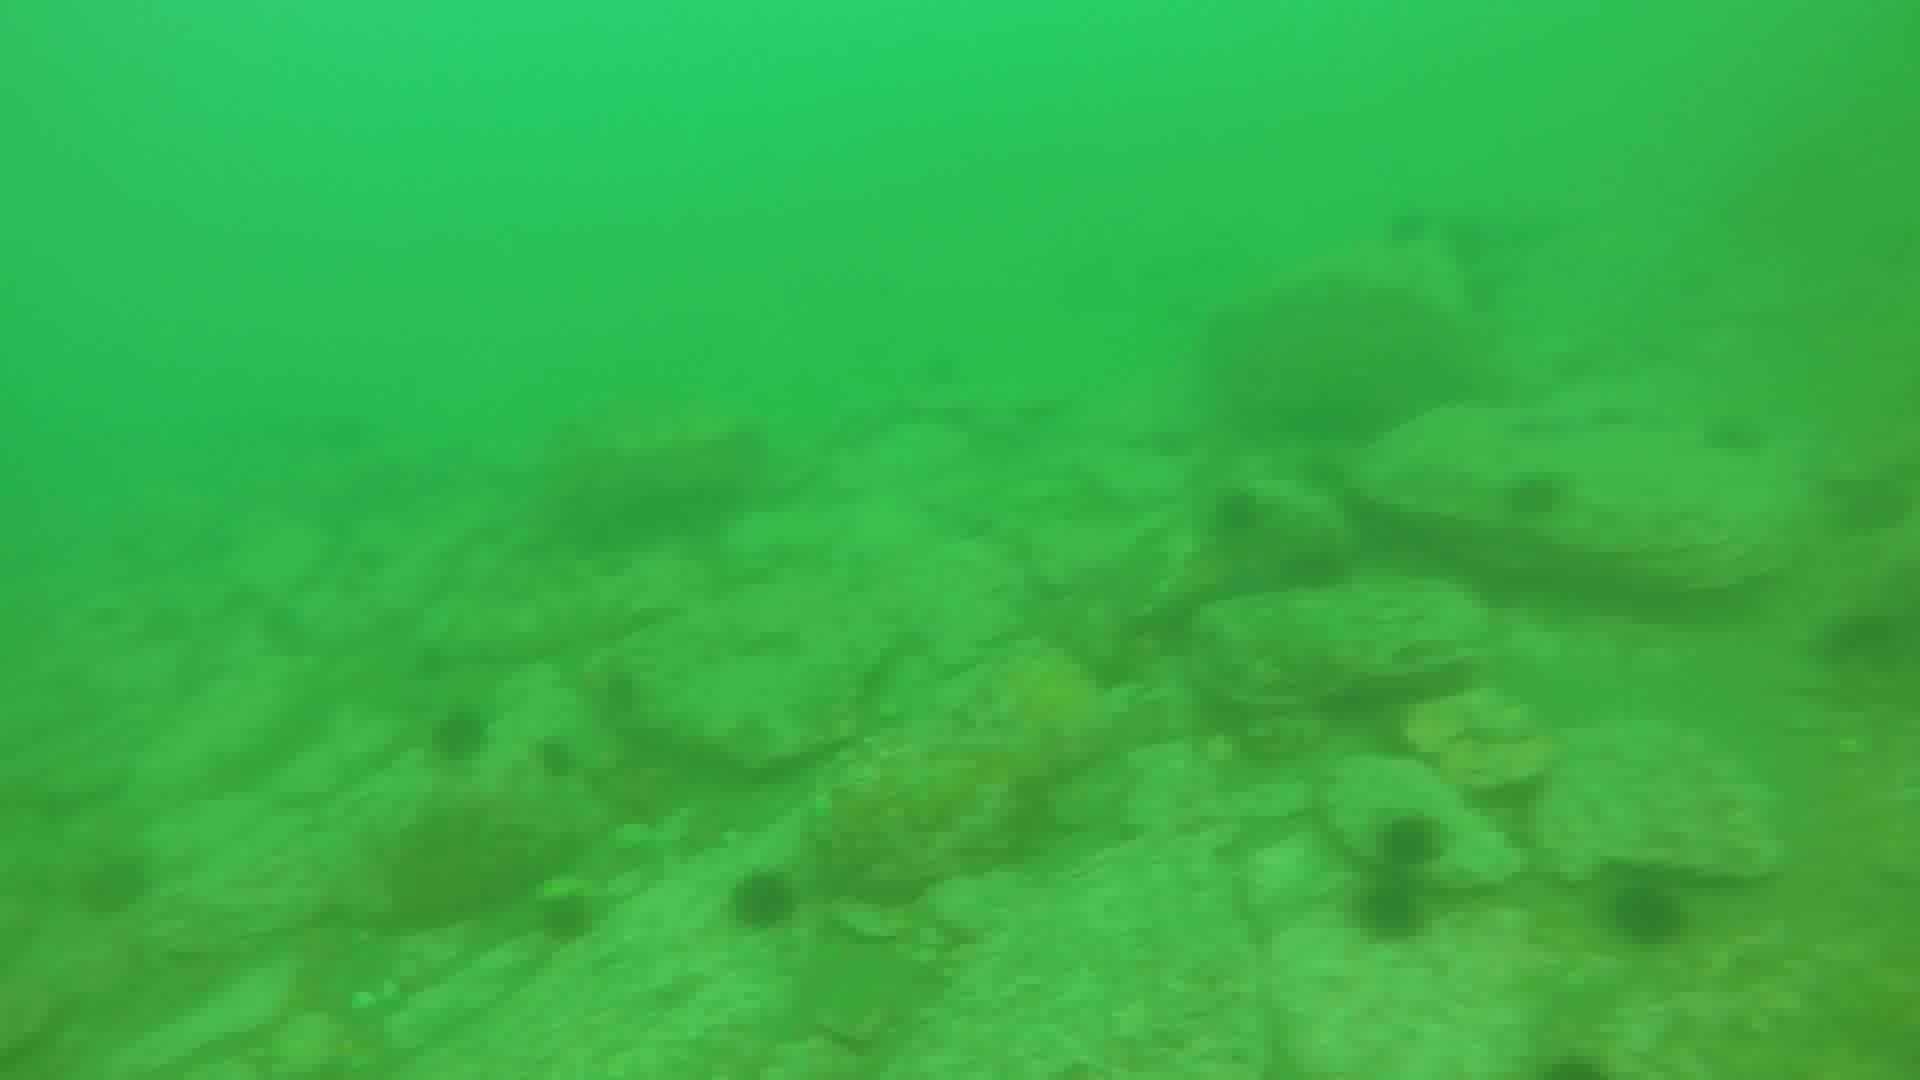echinus: (1817, 600, 1913, 680), (1604, 876, 1691, 949), (75, 848, 156, 922), (1350, 876, 1432, 948), (724, 865, 802, 935), (1371, 808, 1451, 872), (425, 702, 495, 769), (1203, 484, 1271, 549), (531, 887, 603, 949), (1501, 468, 1571, 526), (1701, 410, 1768, 462), (529, 731, 582, 785)
